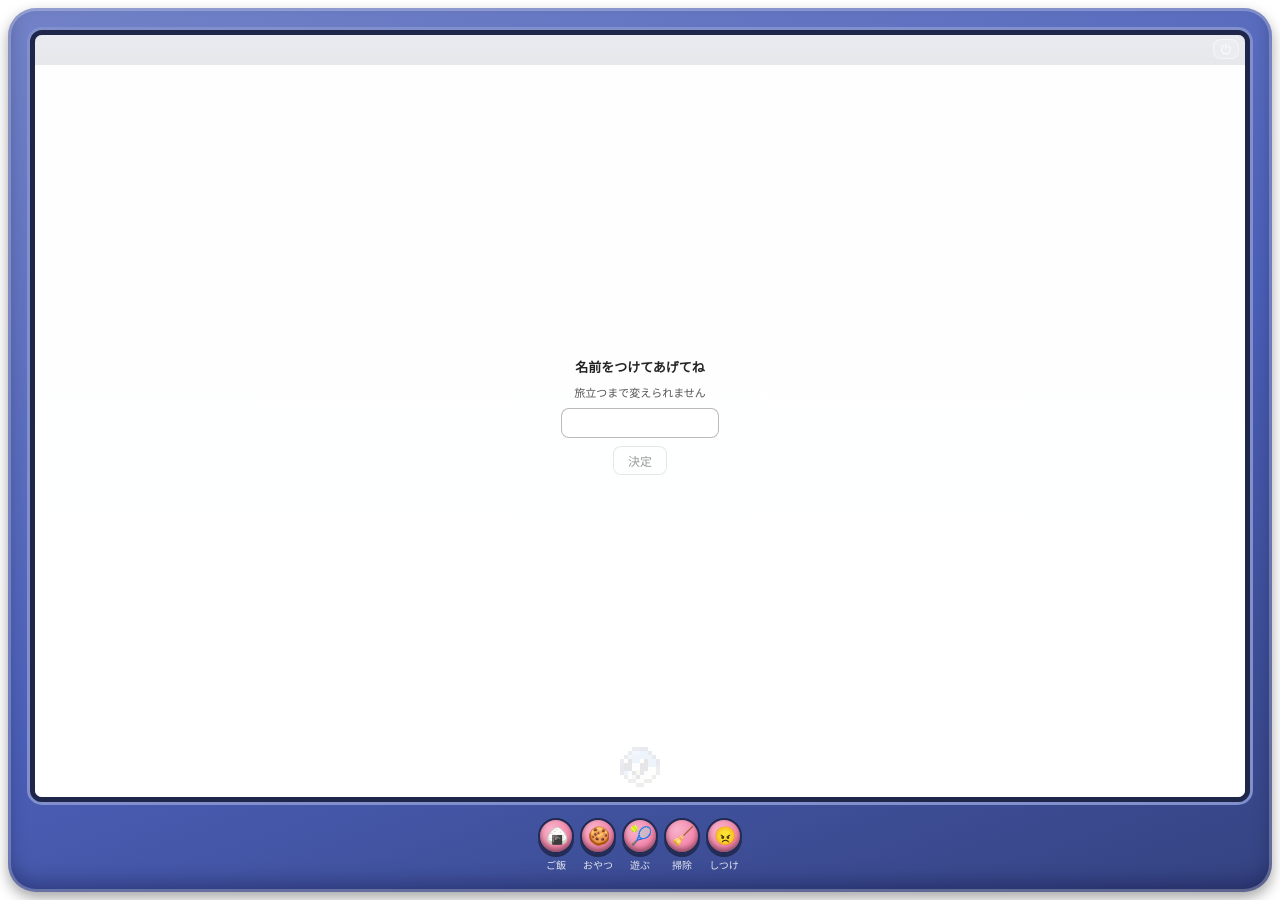
Test: App › naming › shows the reason when the name is rejected and keeps asking
In the field named "名前": (640, 423) [561,408,719,438], type "ごま"
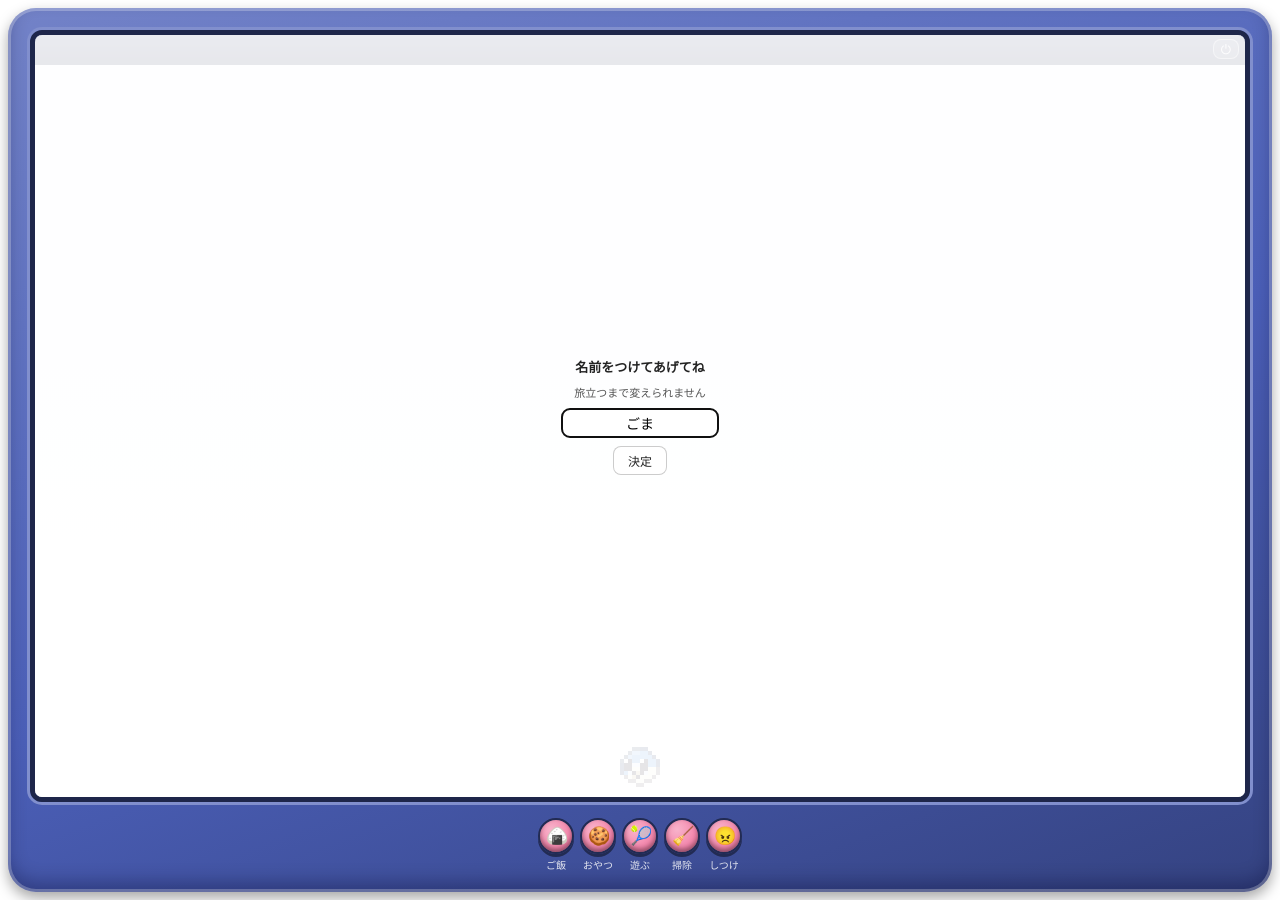
Click the button "決定": (640, 460) [613,446,667,475]
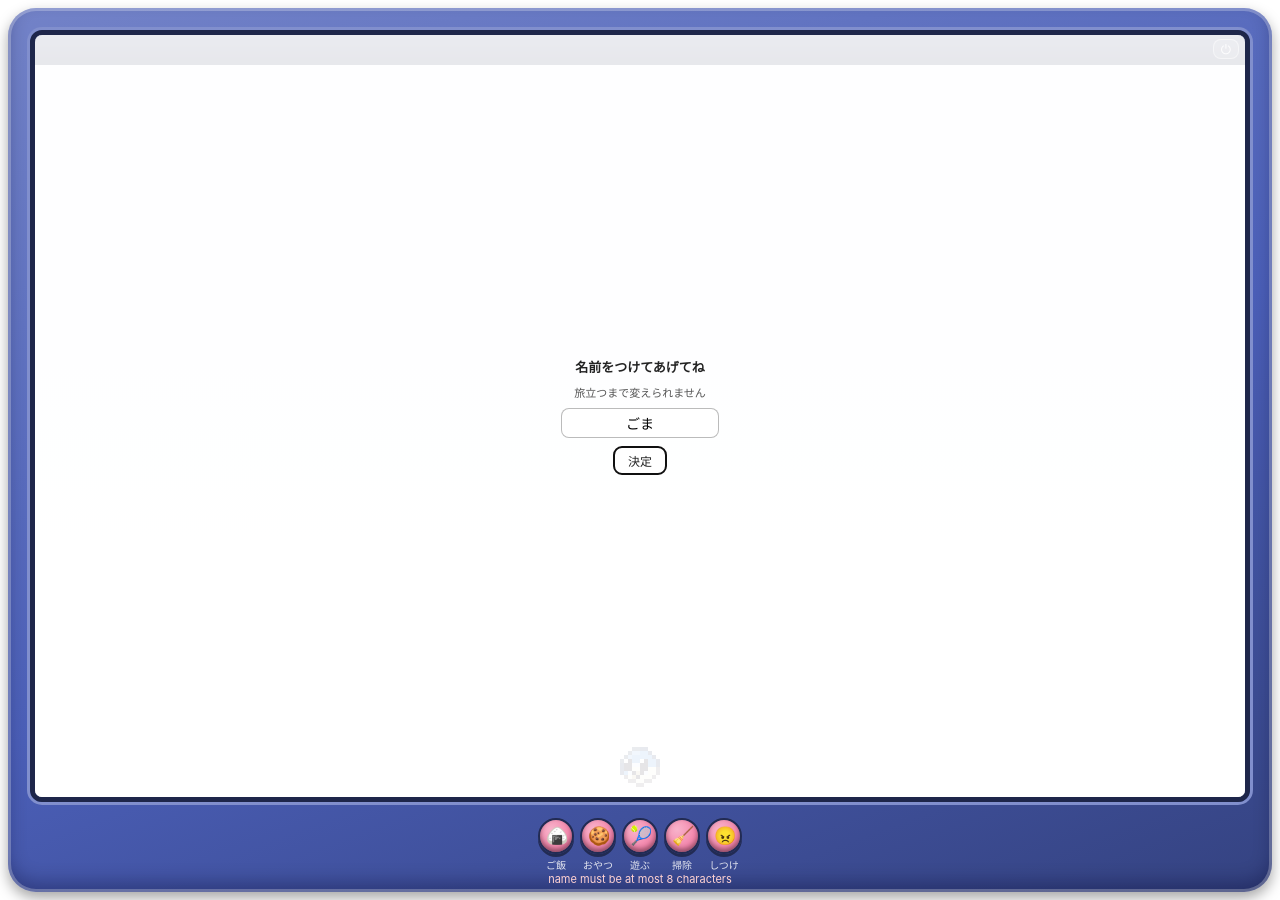
Result: the message shows "at most 8" at [548,872,732,886]
